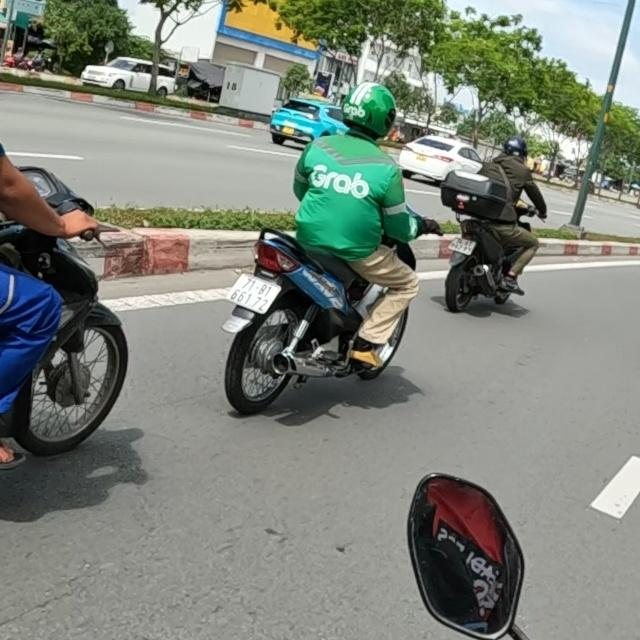license-plate: (227, 273, 283, 316)
